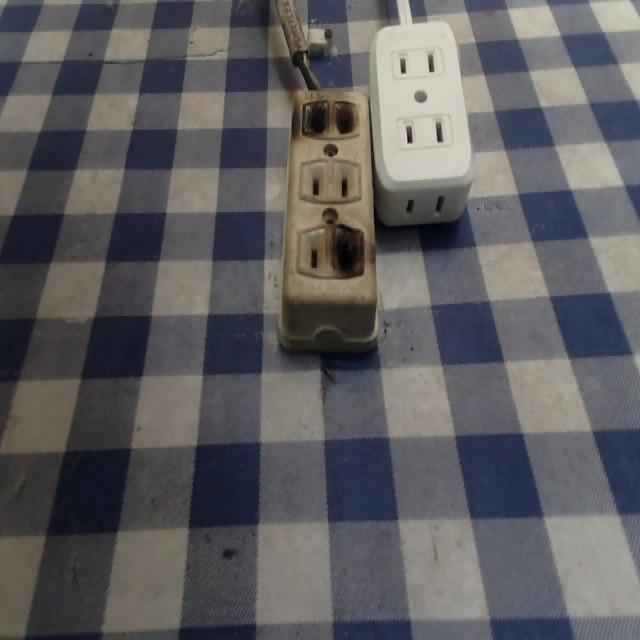-: (299, 93, 366, 139), (328, 221, 365, 287)
